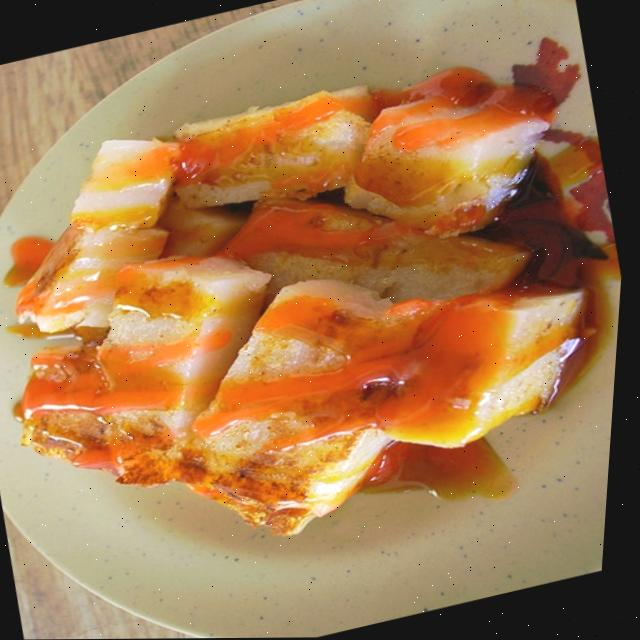蛋糕甜品: (0, 3, 640, 616)
